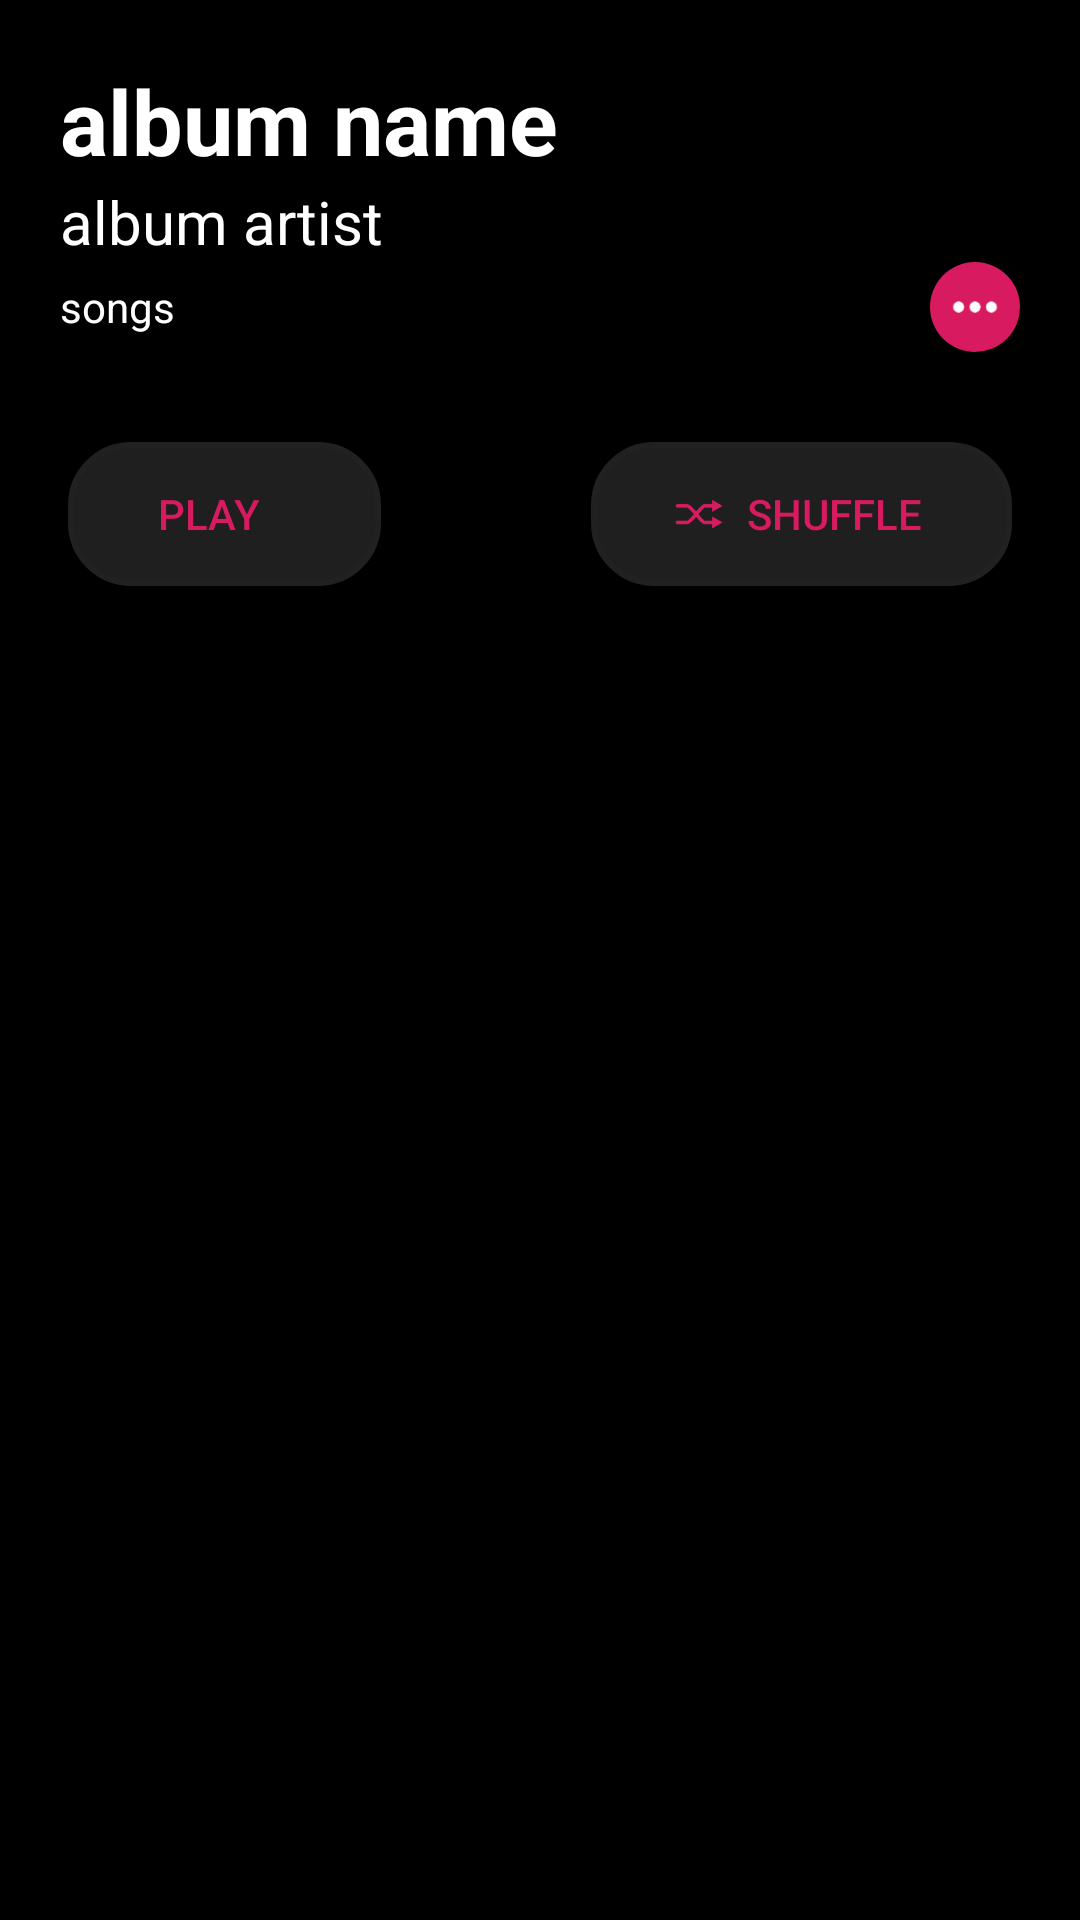

Locate icon controls on the screen. Image size 1080×1920, boxes as BBox(x1, y1, x2, y2).
more horiz: BBox(930, 262, 1020, 352)
